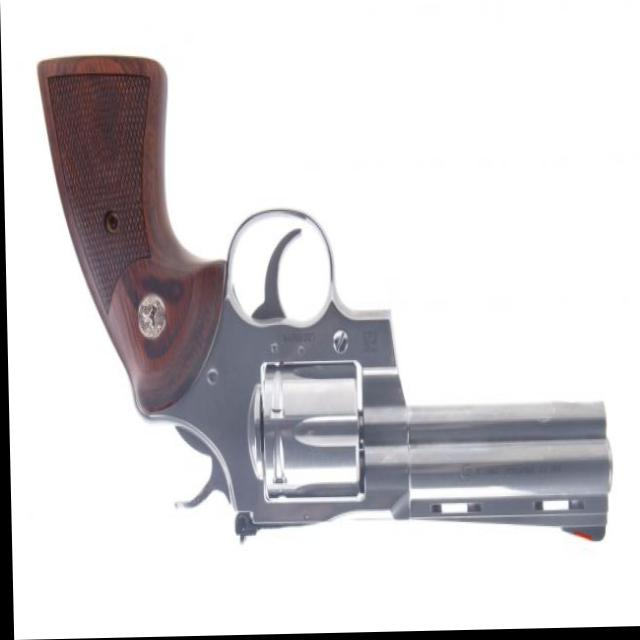handgun: (37, 36, 615, 558)
